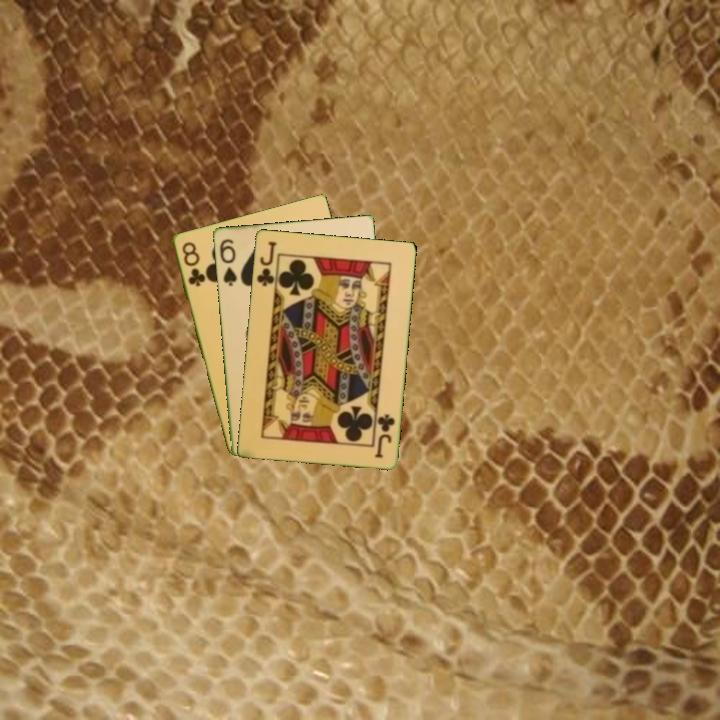6s: (216, 235, 240, 288)
8c: (178, 238, 208, 289)
Jc: (371, 410, 398, 460), (253, 238, 279, 289)
